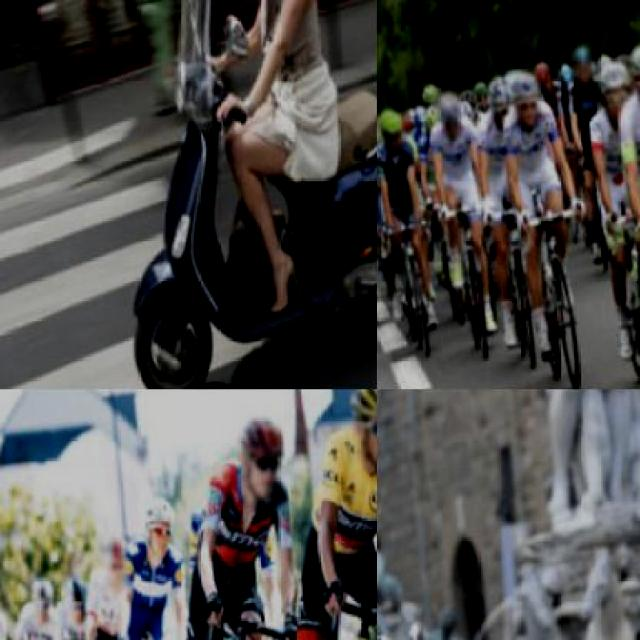With Helmet: (232, 400, 300, 515), (138, 486, 190, 560), (503, 62, 552, 135), (590, 49, 638, 117), (59, 564, 107, 630), (99, 527, 141, 593), (377, 96, 417, 162), (343, 390, 375, 472), (430, 81, 470, 141), (616, 29, 638, 120), (29, 570, 66, 624), (486, 68, 519, 125), (568, 37, 602, 92), (0, 567, 11, 628), (377, 117, 386, 158)
